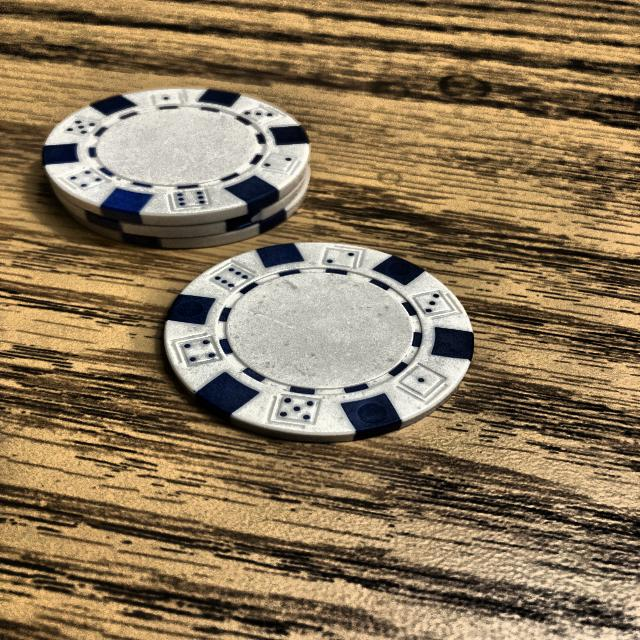Chip: (150, 230, 483, 460), (28, 78, 322, 259)
